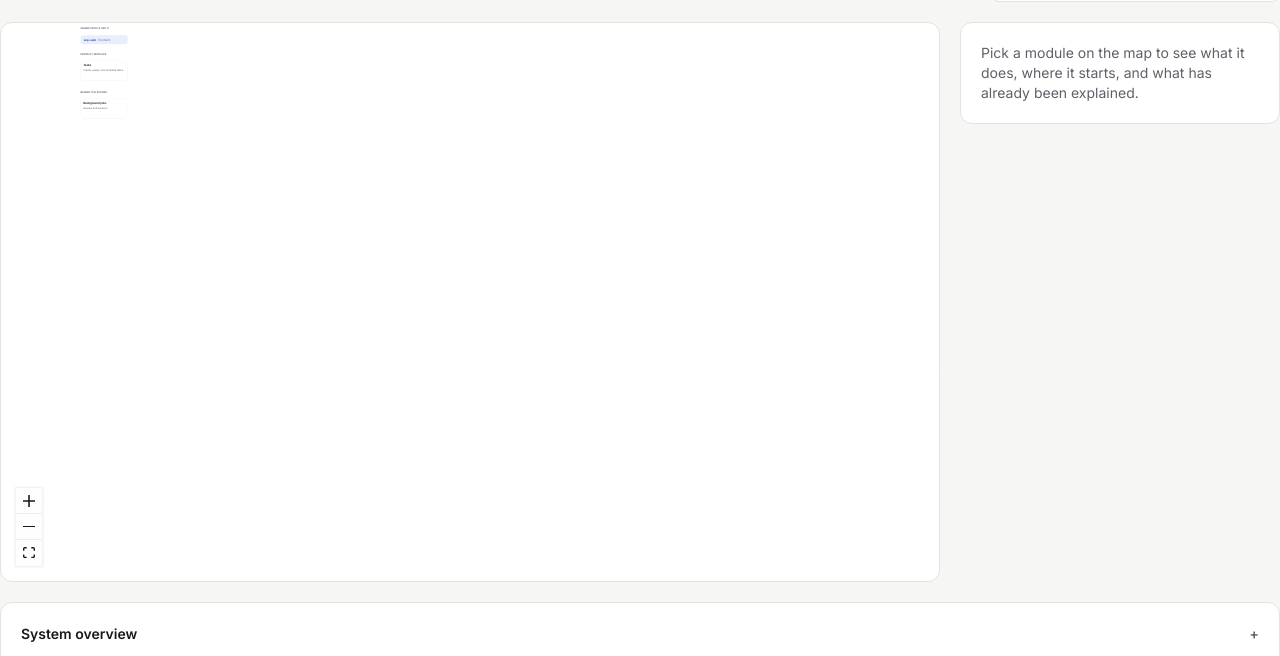
selecting a module fills the panel and Ask about routes to Ask
Step 1. Click the button "Tasks Create, assign and schedule tasks." → (104, 71), box [80,61,128,80]
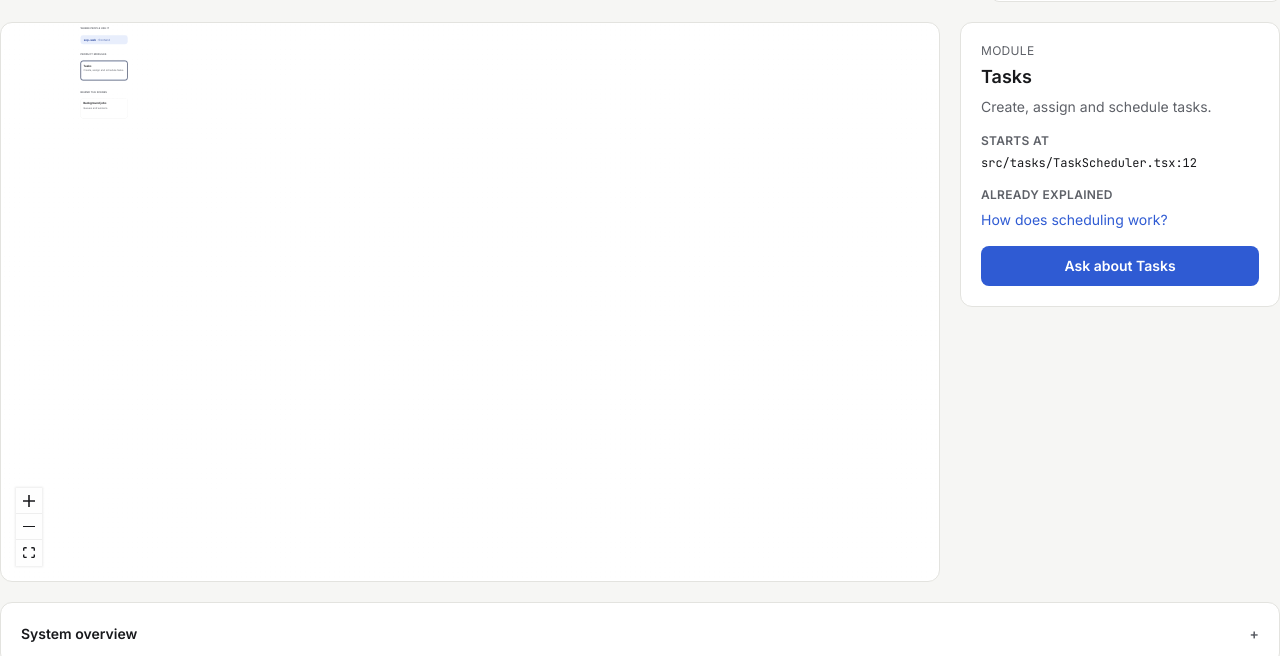
Expected: the 2nd text "Create, assign and schedule tasks." is shown, [981,98,1212,115]
Expected: the list item "src/tasks/TaskScheduler.tsx:12" is shown, [981,155,1197,171]
Step 2. Click the button "Ask about Tasks" → (1120, 266), box [981,246,1259,286]
(page scrolled)
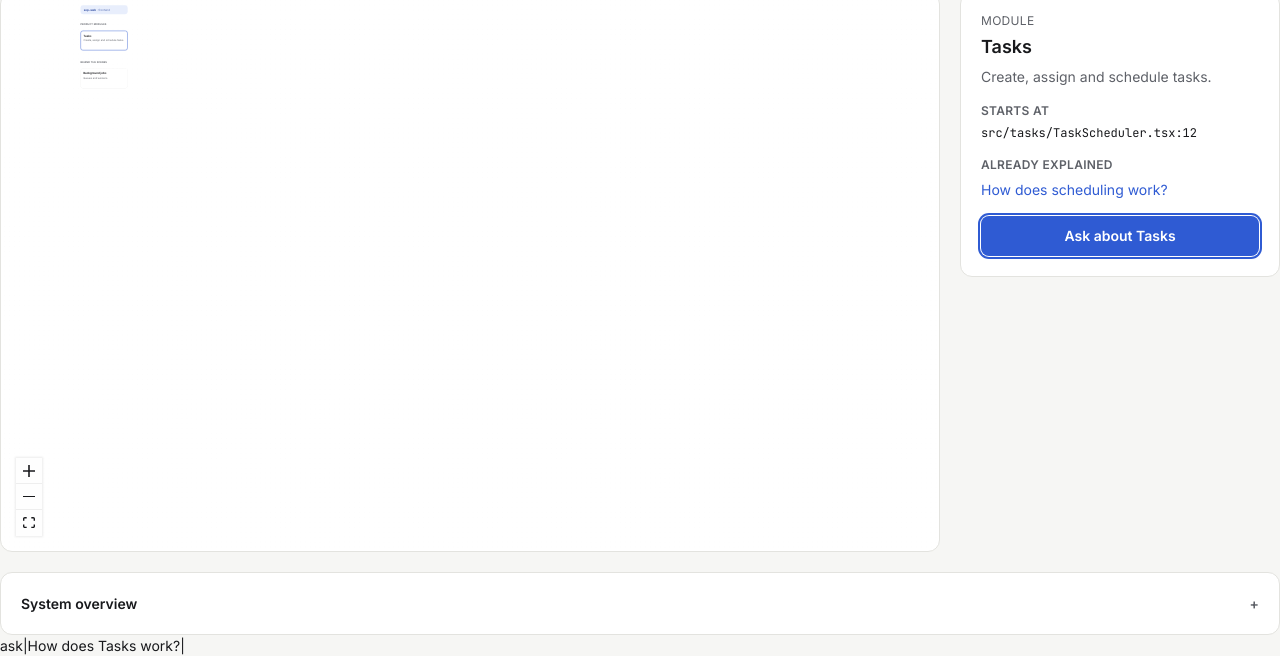
Expected: the text with test id "probe" reads "ask|How does Tasks work?|", [0,637,23,654]
